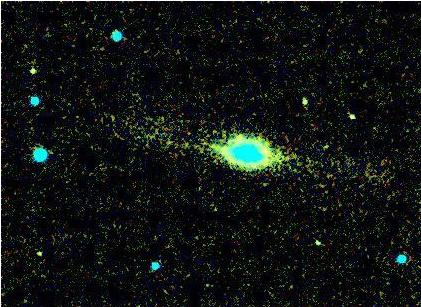star: (311, 132, 341, 162)
